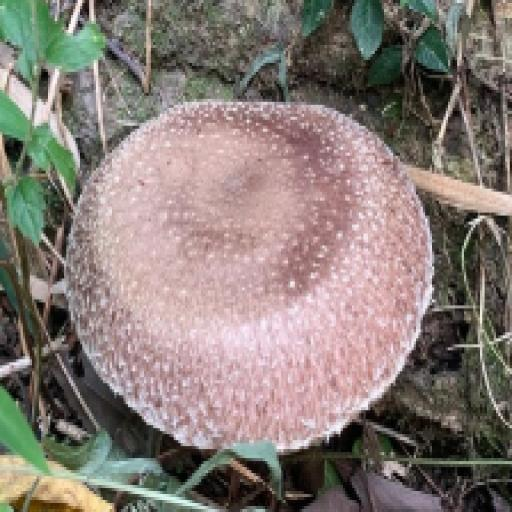Shiitake Mushroom: (69, 107, 428, 440)
